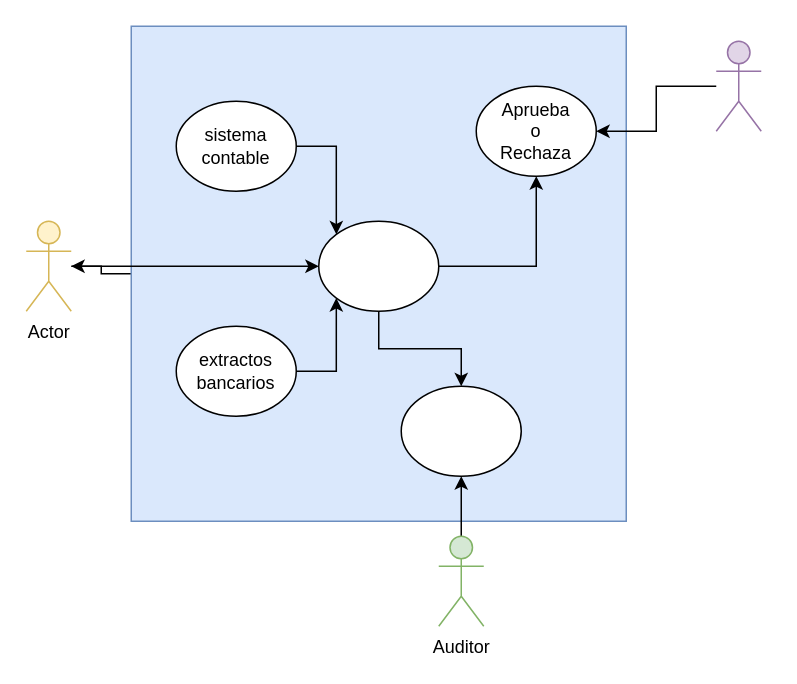
The diagram is 797 pixels wide and 684 high, and some of its shapes have lost their labels. Each missing label, with the box of its shape:
Conciliación: (317, 220, 439, 311)
Gerente: (715, 40, 761, 131)
Revisa: (400, 385, 521, 476)
